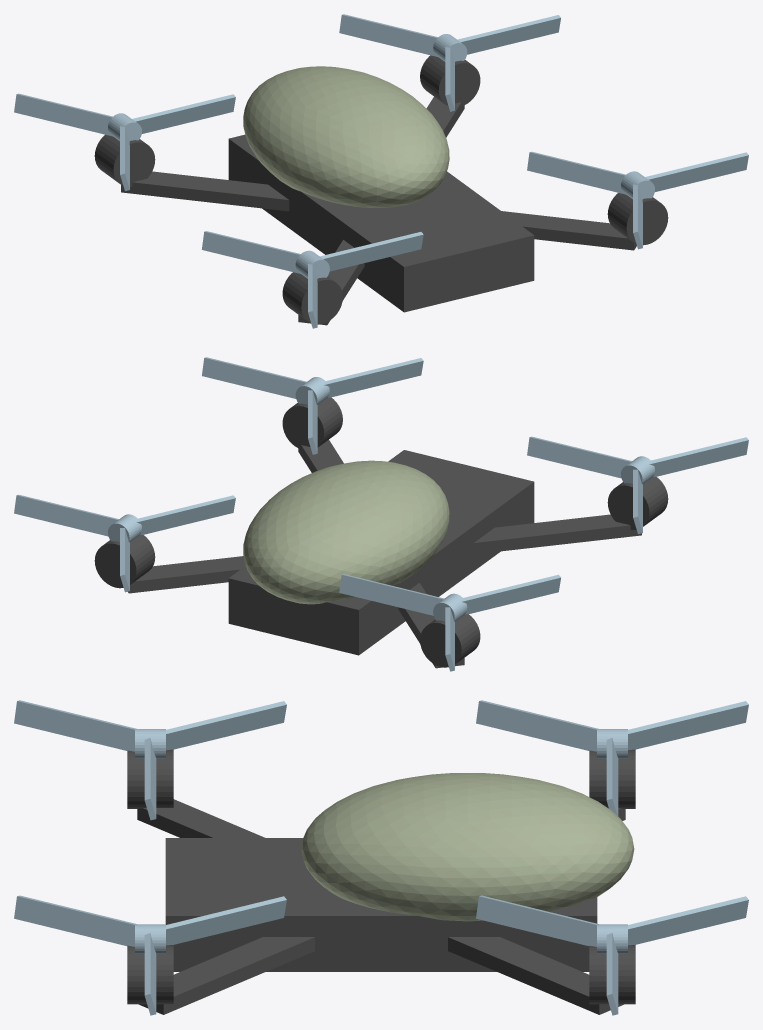
The model's file is CrazyBee Micro.glb.
3 renders of one model, top to bottom at view 1: azimuth 30°, elevation 25°; view 2: azimuth 150°, elevation 25°; view 3: azimuth 270°, elevation 25°, orthographic. The views are drawn at different scales.
Visible parts, largest first — view 1: canopy, frame_body, prop_2, prop_0, prop_3, prop_1, arm_3, arm_0, motor_2, motor_1, motor_0, motor_3 (+2 smaller); view 2: canopy, frame_body, prop_1, prop_2, prop_0, prop_3, arm_2, arm_1, motor_3, motor_0, motor_1, motor_2 (+2 smaller); view 3: canopy, frame_body, prop_0, prop_1, prop_2, prop_3, arm_1, arm_0, arm_2, motor_0, motor_1, motor_2 (+1 smaller).
Boxes of the visible parts, bbox=[...] form: canopy: bbox=[243, 66, 449, 207]; frame_body: bbox=[228, 134, 534, 312]; prop_2: bbox=[201, 231, 423, 328]; prop_0: bbox=[527, 151, 748, 249]; prop_3: bbox=[14, 93, 235, 191]; prop_1: bbox=[339, 14, 560, 111]; arm_3: bbox=[121, 171, 289, 211]; arm_0: bbox=[501, 211, 636, 250]; motor_2: bbox=[282, 272, 342, 324]; motor_1: bbox=[420, 55, 480, 106]; motor_0: bbox=[607, 193, 668, 245]; motor_3: bbox=[94, 134, 155, 186]; canopy: bbox=[243, 460, 449, 604]; frame_body: bbox=[228, 450, 534, 655]; prop_1: bbox=[14, 494, 235, 592]; prop_2: bbox=[527, 436, 748, 534]; prop_0: bbox=[202, 357, 423, 454]; prop_3: bbox=[339, 574, 560, 671]; arm_2: bbox=[473, 514, 641, 554]; arm_1: bbox=[128, 556, 245, 593]; motor_3: bbox=[420, 614, 480, 667]; motor_0: bbox=[282, 397, 342, 449]; motor_1: bbox=[94, 535, 155, 588]; motor_2: bbox=[607, 477, 668, 529]; canopy: bbox=[301, 773, 634, 921]; frame_body: bbox=[165, 838, 597, 971]; prop_0: bbox=[14, 895, 286, 1015]; prop_1: bbox=[476, 895, 748, 1015]; prop_2: bbox=[14, 700, 286, 820]; prop_3: bbox=[476, 700, 748, 816]; arm_1: bbox=[448, 937, 623, 1014]; arm_0: bbox=[139, 937, 314, 1014]; arm_2: bbox=[137, 799, 264, 837]; motor_0: bbox=[127, 945, 173, 1004]; motor_1: bbox=[589, 945, 635, 1004]; motor_2: bbox=[127, 749, 173, 808].
Bounding box in the file's own units: 0.2265 × 0.0516 × 0.2383.
